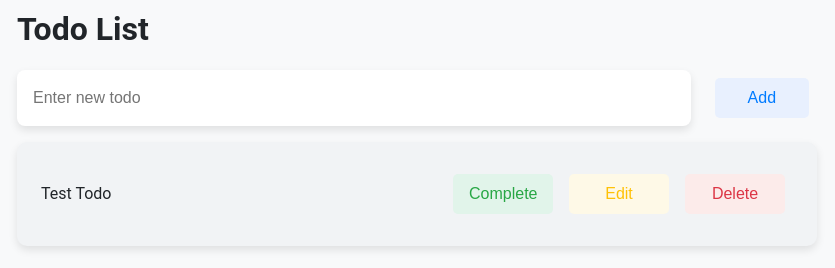
Test: TodoList Component › should edit a todo
Expected: the text "Test Todo" is shown, [41,184,112,203]
Click the button "Edit" at x=619, y=194, box [569,174,669,214]
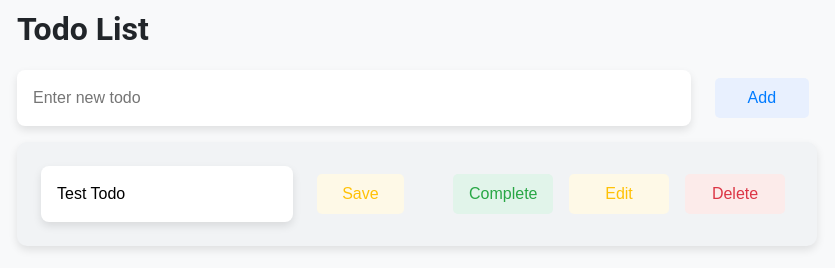
Replace the text in the field showing "Test Todo" with "Edited Todo" at x=167, y=194, box [41,166,293,222]
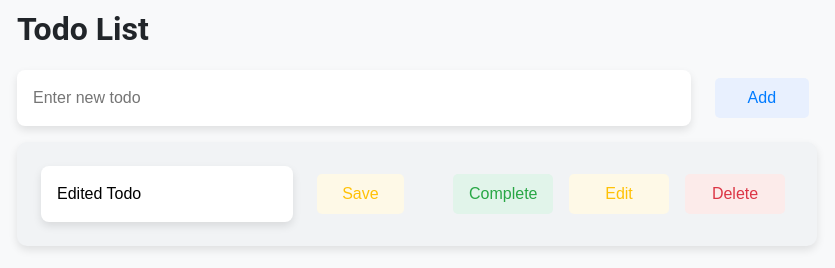
Click the button "Save" at x=360, y=194, box [317,174,404,214]
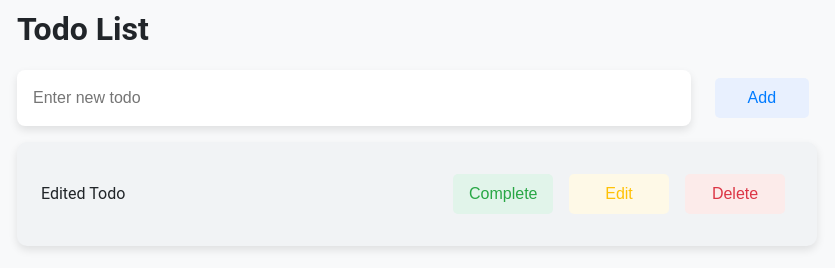
Expected: the text "Edited Todo" is shown, [41,184,125,203]
